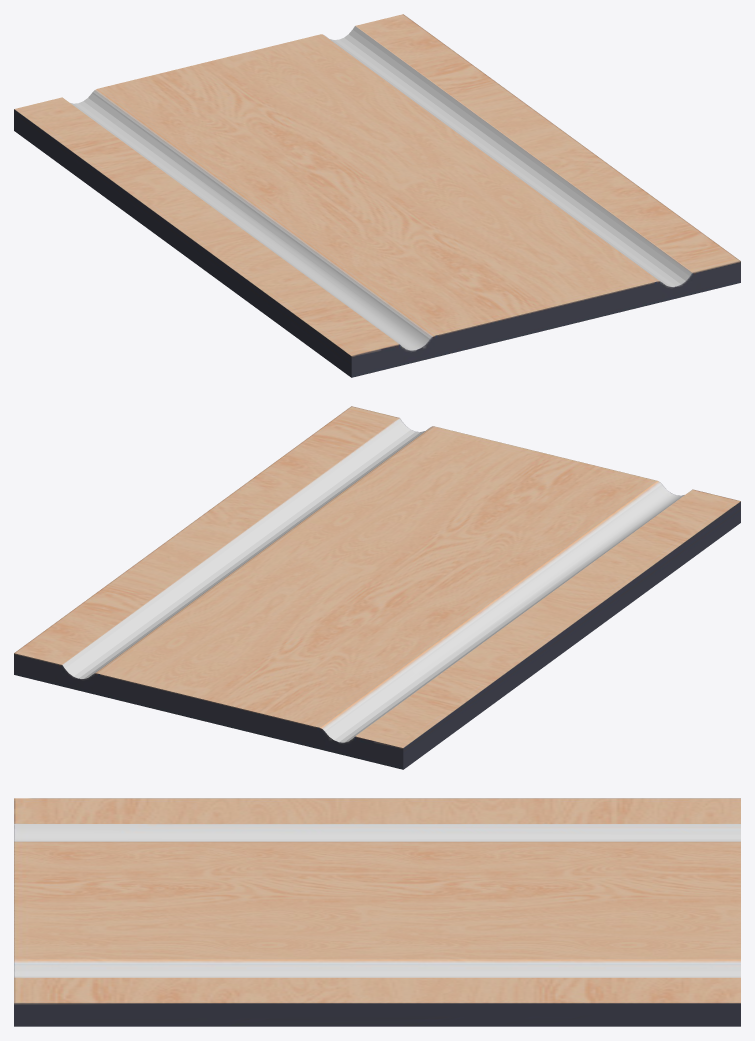
File: Track_part.fbx
The picture shows the model from 3 angles, top to bottom: view 1: azimuth 30°, elevation 25°; view 2: azimuth 150°, elevation 25°; view 3: azimuth 270°, elevation 25°; orthographic projection. The views are drawn at different scales.
Visible parts, largest first — view 1: track_part; view 2: track_part; view 3: track_part.
Boxes of the visible parts, bbox=[...] form: track_part: bbox=[14, 14, 740, 377]; track_part: bbox=[14, 406, 740, 769]; track_part: bbox=[14, 798, 740, 1026].
Size of the model in its own units: 126 by 6.69 by 189.
1 material, 1 textured.
